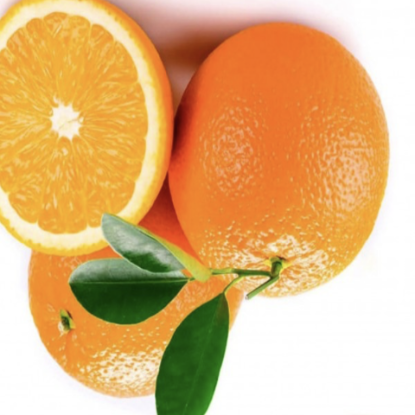orange: (152, 9, 399, 327), (21, 146, 267, 404)
